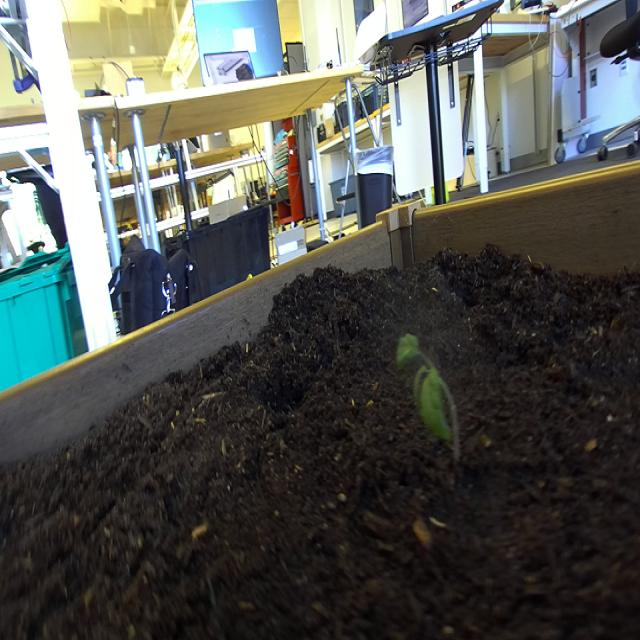Healthy: (392, 327, 468, 476)
